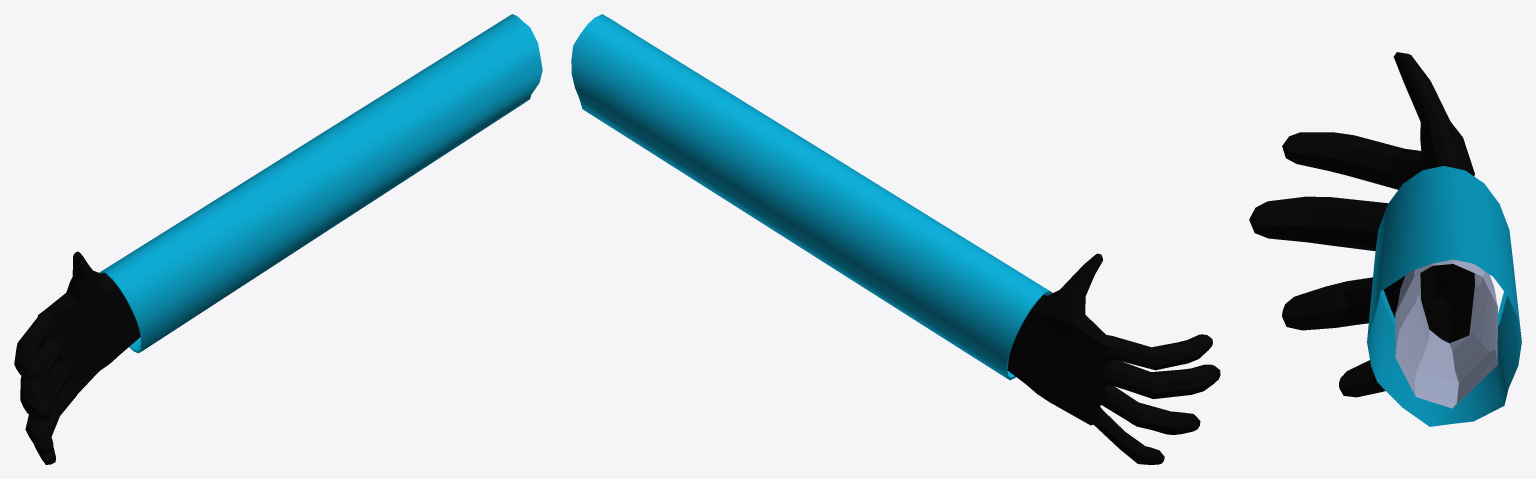
Rendered from arm_bent.fbx.
3 views of the same model, side by side, from view 1: azimuth 30°, elevation 25°; view 2: azimuth 150°, elevation 25°; view 3: azimuth 270°, elevation 25° (orthographic). The views are drawn at different scales.
Parts seen in each view (by area): view 1: shirt, armature; view 2: shirt, armature; view 3: armature, shirt.
Part boxes in pixels (x1,y1,x2,y2): shirt: (99, 14, 542, 353); armature: (14, 251, 140, 464); shirt: (571, 14, 1052, 380); armature: (1007, 253, 1220, 464); armature: (1249, 52, 1498, 408); shirt: (1367, 166, 1521, 426).
Size of the model in its own units: 0.0445 by 0.0245 by 0.0098.
